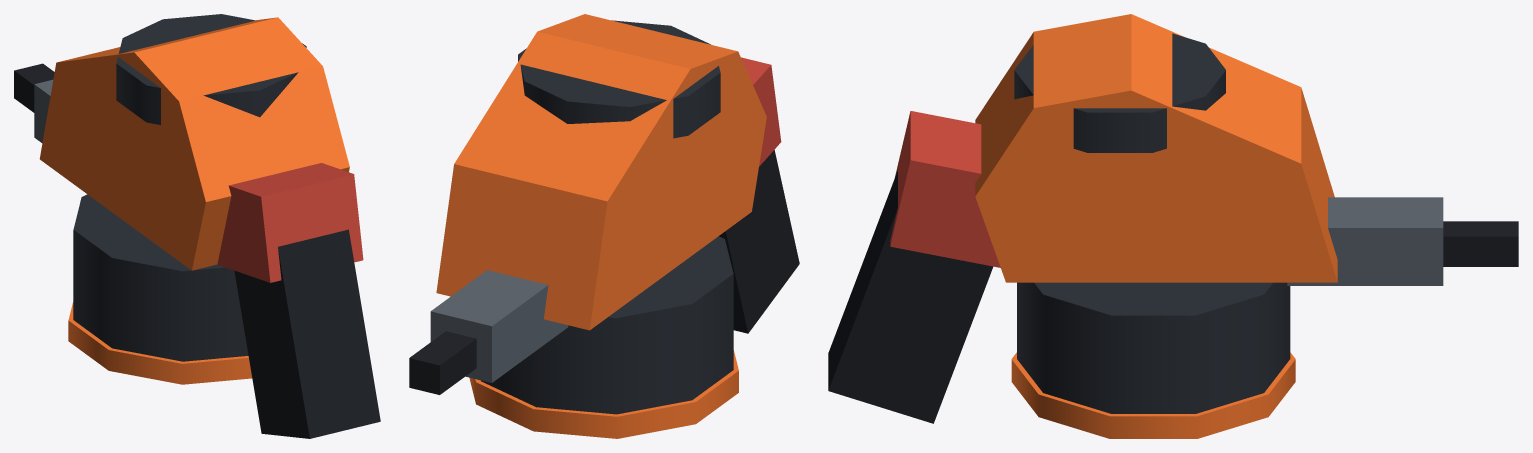
The model's file is nail_driver.glb.
3 renders of one model, left to right at view 1: azimuth 30°, elevation 25°; view 2: azimuth 150°, elevation 25°; view 3: azimuth 270°, elevation 25°, orthographic. The views are drawn at different scales.
Parts seen in each view (by area): view 1: Merged; view 2: Merged; view 3: Merged.
Boxes of the visible parts, x1=… form: Merged: x1=14, y1=14, x2=380, y2=438; Merged: x1=409, y1=14, x2=799, y2=438; Merged: x1=828, y1=14, x2=1518, y2=438.
Bounding box in the file's own units: 0.1601 × 0.2305 × 0.4088.
